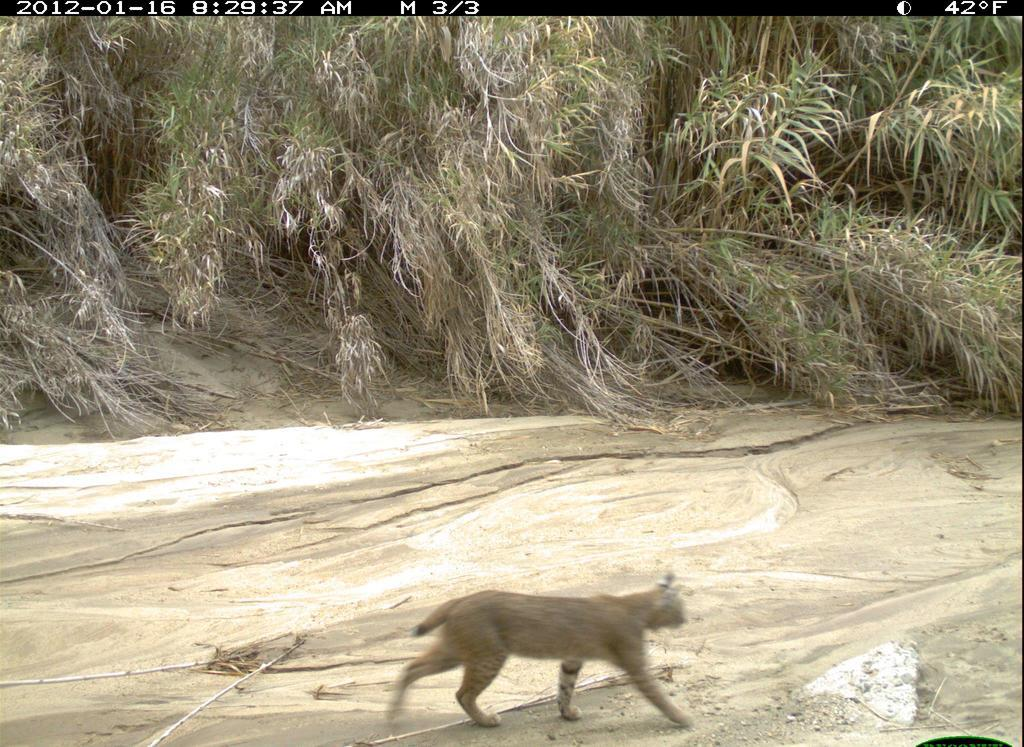bobcat: (382, 562, 706, 745)
